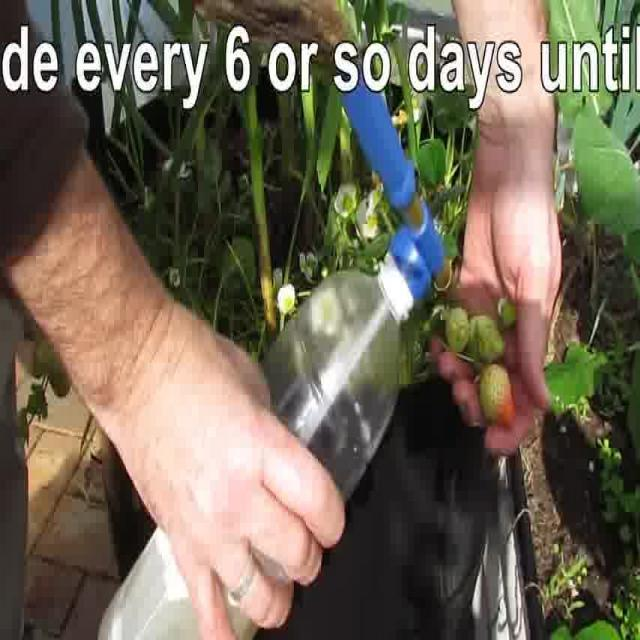Fruta sana: (478, 362, 517, 430), (469, 313, 506, 367), (31, 326, 57, 378), (444, 305, 469, 352), (48, 356, 72, 397), (28, 386, 48, 416), (14, 409, 29, 447), (498, 299, 516, 330)
